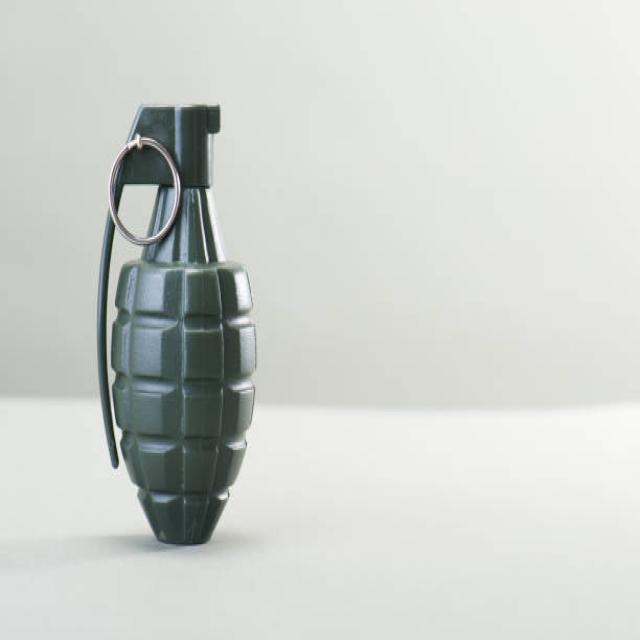grenade: (96, 100, 262, 550)
